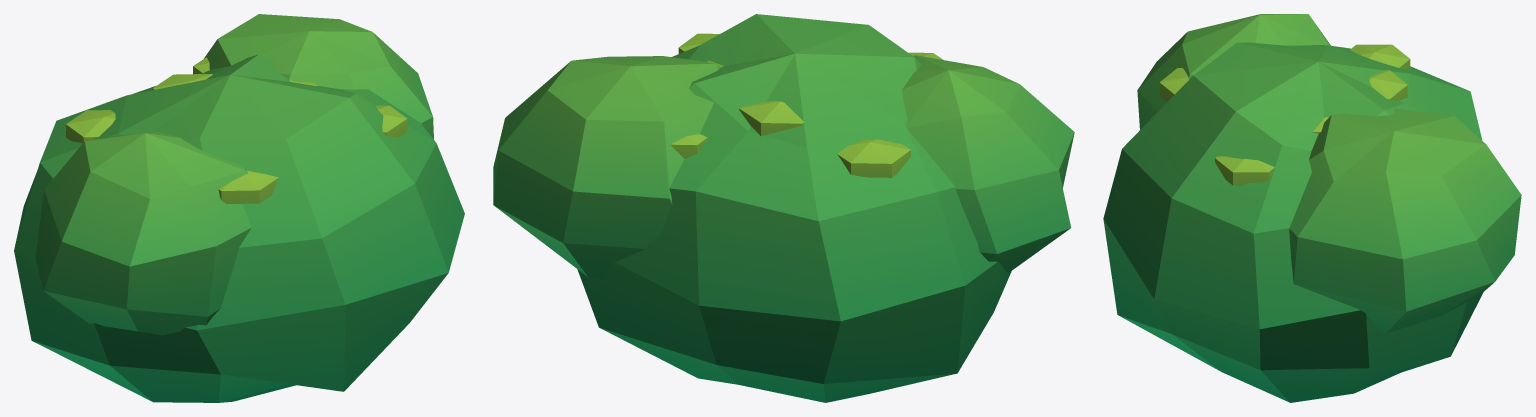
File: tea_bush.glb
3 views of the same model, side by side, from view 1: azimuth 30°, elevation 25°; view 2: azimuth 150°, elevation 25°; view 3: azimuth 270°, elevation 25° (orthographic). The views are drawn at different scales.
Parts seen in each view (by area): view 1: tea_bush; view 2: tea_bush; view 3: tea_bush.
Part boxes in pixels (<box>): tea_bush: <box>14,14,464,402</box>; tea_bush: <box>493,14,1074,402</box>; tea_bush: <box>1103,14,1521,402</box>.
Bounding box in the file's own units: 1.29 × 0.8477 × 1.01.
Materials: 1 (1 with a texture image).
